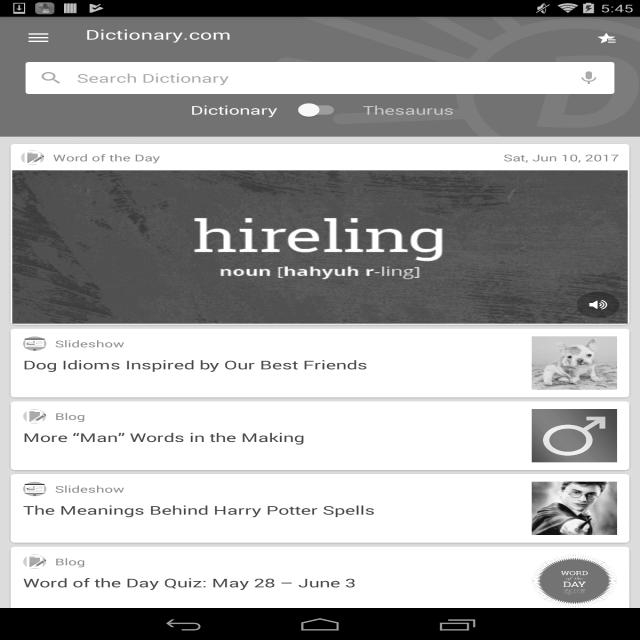Button: (362, 94, 457, 126), (184, 94, 278, 126)
ImageButton: (9, 17, 68, 59), (564, 62, 614, 94)
ImageView: (12, 170, 628, 324), (256, 17, 640, 136), (532, 336, 617, 390), (532, 554, 617, 608), (532, 409, 617, 462), (532, 482, 617, 535), (26, 62, 76, 94), (585, 297, 611, 313), (21, 150, 44, 165), (23, 336, 46, 351), (23, 409, 46, 424), (23, 554, 46, 569), (23, 482, 46, 496)
Switch: (294, 101, 346, 119)
TextView: (77, 62, 563, 94), (23, 356, 523, 373), (23, 574, 523, 591), (23, 429, 523, 445), (23, 502, 523, 518), (86, 26, 232, 44), (580, 22, 632, 54), (504, 151, 619, 164), (53, 151, 160, 164), (55, 337, 124, 350), (55, 483, 124, 495), (55, 410, 85, 423), (55, 555, 85, 568)
